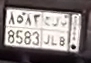3: (31, 13, 42, 47)
5: (15, 14, 24, 45)
8: (7, 11, 16, 45), (24, 13, 32, 46)
B: (59, 19, 69, 48)
J: (43, 15, 51, 46)
L: (50, 16, 59, 48)
